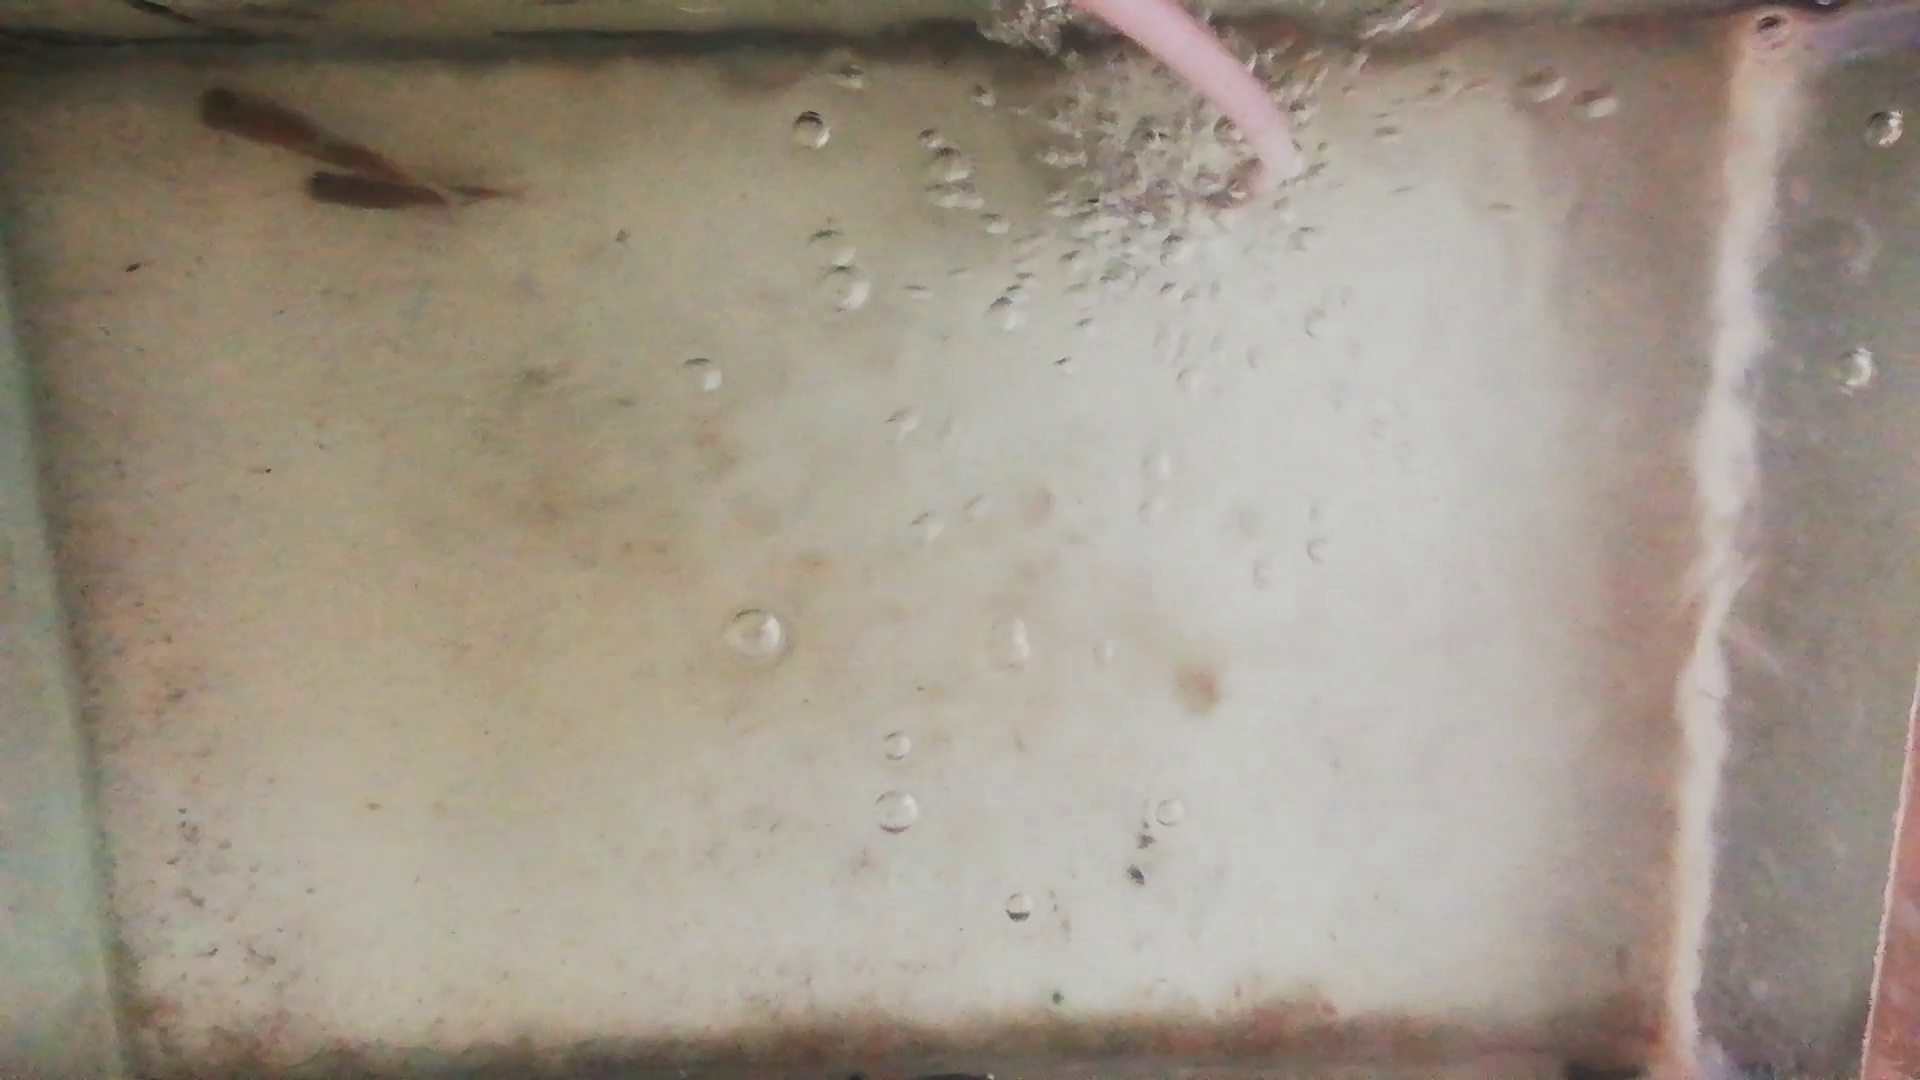fish: (193, 84, 404, 175), (291, 167, 497, 212)
